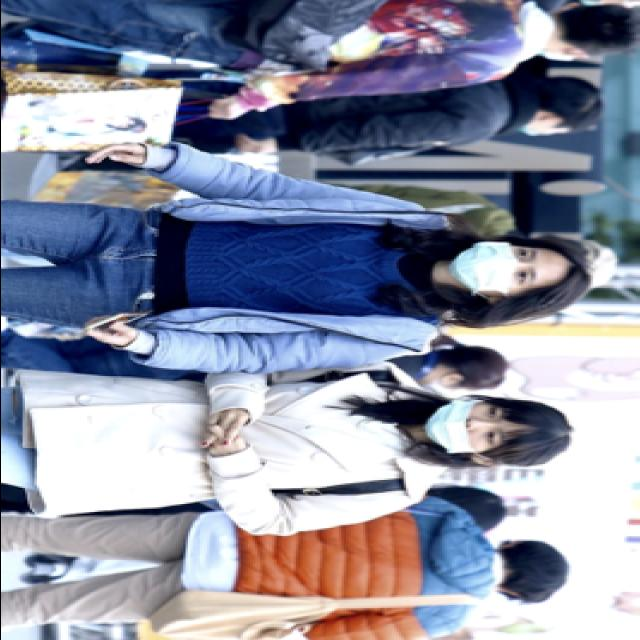mask_weared_incorrect: (424, 400, 512, 459)
with_mask: (446, 240, 546, 296)
